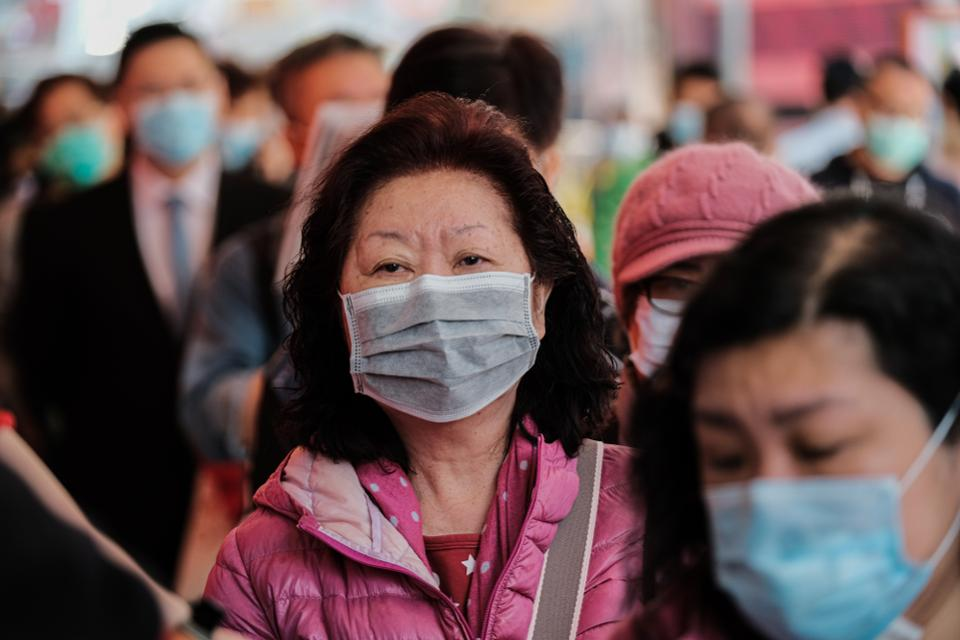surgical: (690, 464, 917, 640), (337, 277, 551, 425)
